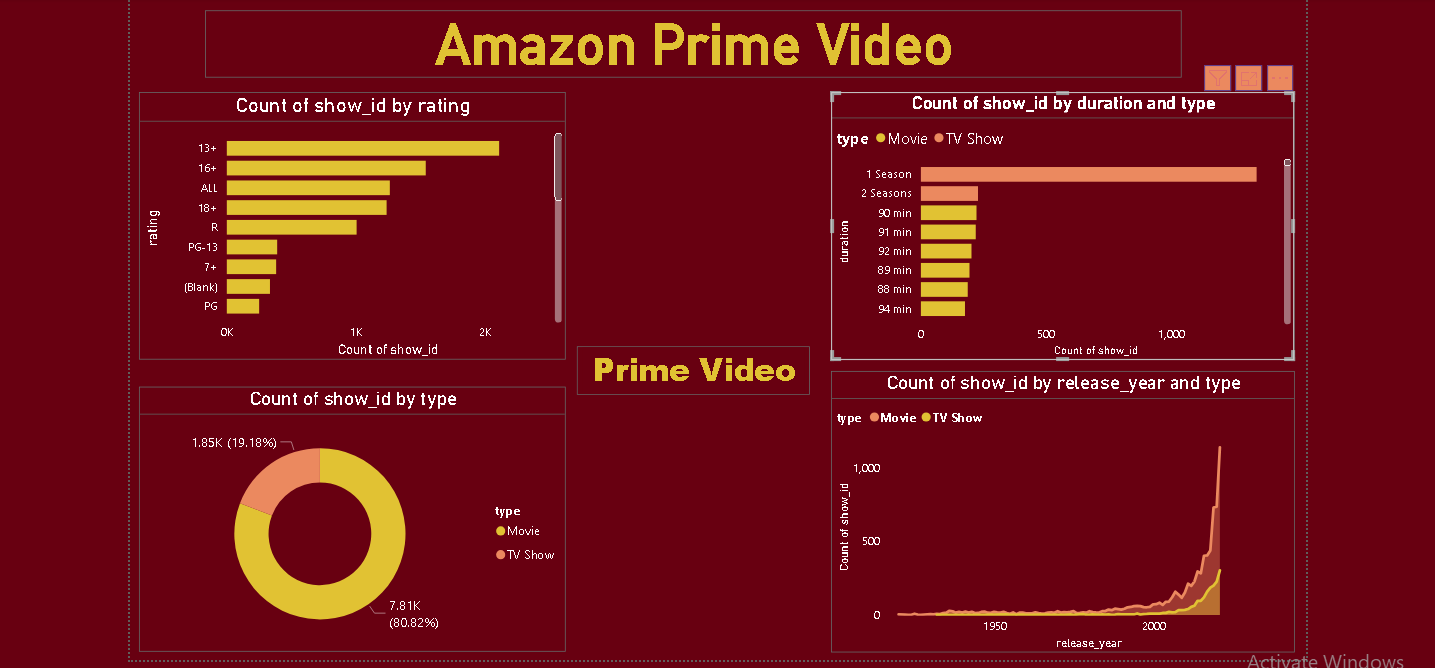

What the dashboard file says about the page in this screenshot:
{"tool":"powerbi","page":{"name":"Page 1","canvas":[1280,720],"ordinal":0},"visuals":[{"type":"donutChart","fields":{"Category":["amazon_prime_titles.type"],"Y":["Count(amazon_prime_titles.show_id)"]},"box":[9.7,422.8,464.2,288.8],"z":0},{"type":"areaChart","fields":{"Category":["amazon_prime_titles.release_year"],"Y":["Count(amazon_prime_titles.show_id)"],"Series":["amazon_prime_titles.type"]},"box":[762.8,405.8,504.5,305.8],"z":1000},{"type":"barChart","fields":{"Category":["amazon_prime_titles.rating"],"Y":["CountNonNull(amazon_prime_titles.show_id)"]},"box":[9.7,102.4,464.2,291.2],"z":2000},{"type":"barChart","fields":{"Category":["amazon_prime_titles.duration"],"Y":["CountNonNull(amazon_prime_titles.show_id)"],"Series":["amazon_prime_titles.type"]},"box":[762.8,102.4,504.5,291.2],"z":3000},{"type":"textbox","title":"Amazon Prime Video","box":[81.1,12.9,1062.5,73.4],"z":4000},{"type":"textbox","title":"Prime Video ","box":[486.2,379,253.4,52.4],"z":5000}]}

Visuals, with their boxes on the page's 1280x720 design canvas (x1, y1, x2, y2). These are canvas units, not pixel positions in the 1435x668 screenshot, which may show the page scaled, cropped or inside an application window:
donutChart - amazon_prime_titles.type x Count(amazon_prime_titles.show_id): (10, 423, 474, 712)
areaChart - amazon_prime_titles.release_year x Count(amazon_prime_titles.show_id): (763, 406, 1267, 712)
barChart - amazon_prime_titles.rating x CountNonNull(amazon_prime_titles.show_id): (10, 102, 474, 394)
barChart - amazon_prime_titles.duration x CountNonNull(amazon_prime_titles.show_id): (763, 102, 1267, 394)
"Amazon Prime Video" textbox: (81, 13, 1144, 86)
"Prime Video " textbox: (486, 379, 740, 431)
